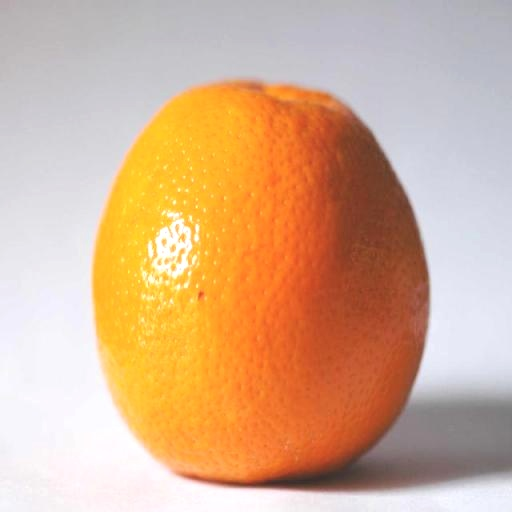fruit: (93, 83, 428, 482)
